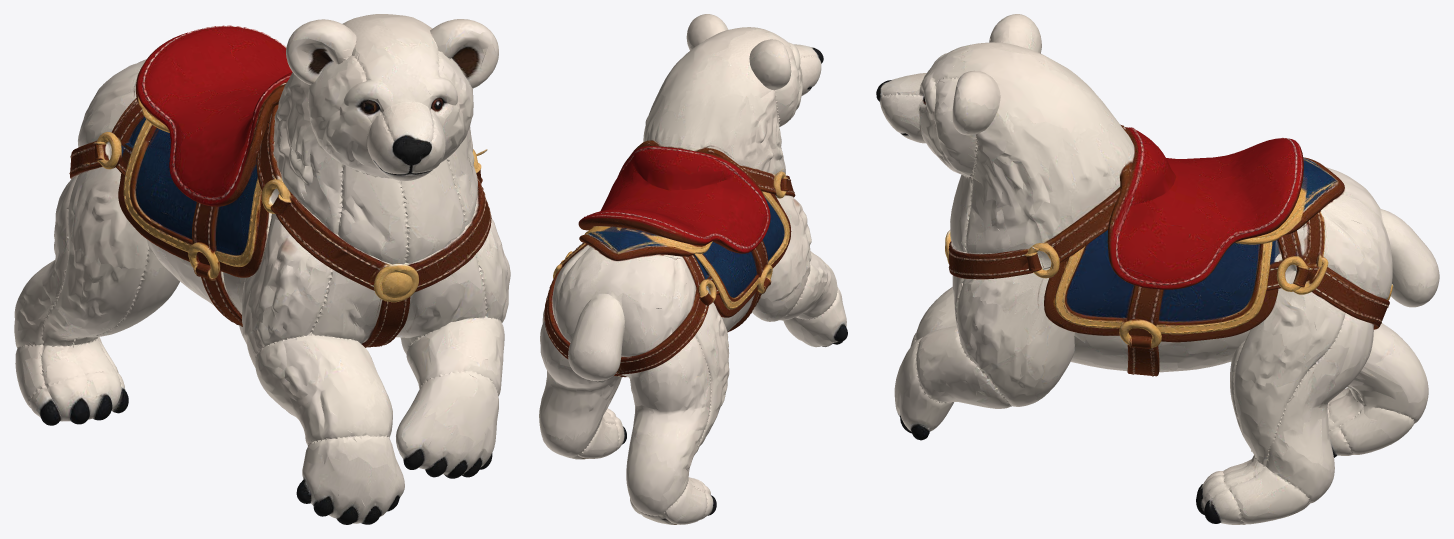
The model's file is polar-bear.glb.
3 views of the same model, side by side, from view 1: azimuth 30°, elevation 25°; view 2: azimuth 150°, elevation 25°; view 3: azimuth 270°, elevation 25° (orthographic). The views are drawn at different scales.
Size of the model in its own units: 0.9508 by 1.69 by 1.9.
1 material, 1 textured.
